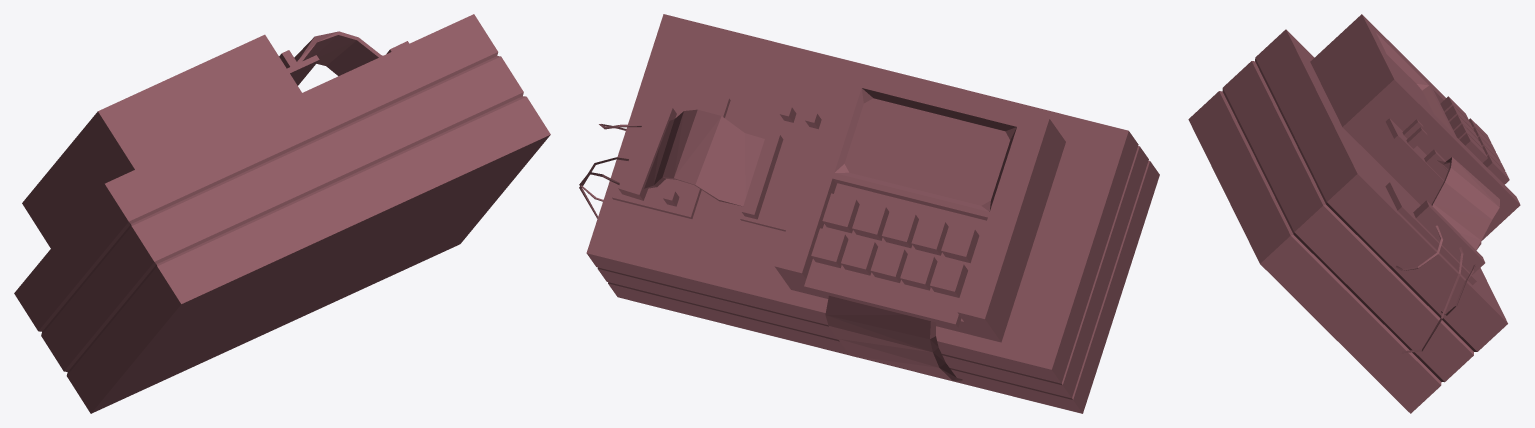
3 views of the same model, side by side, from view 1: azimuth 30°, elevation 25°; view 2: azimuth 150°, elevation 25°; view 3: azimuth 270°, elevation 25° (orthographic). The views are drawn at different scales.
Parts seen in each view (by area): view 1: w_c4_reference; view 2: w_c4_reference; view 3: w_c4_reference.
Part boxes in pixels (x1,y1,x2,y2): w_c4_reference: [14, 14, 550, 413]; w_c4_reference: [579, 14, 1159, 413]; w_c4_reference: [1188, 14, 1520, 413].
Size of the model in its own units: 10.64 by 6.91 by 7.41.
